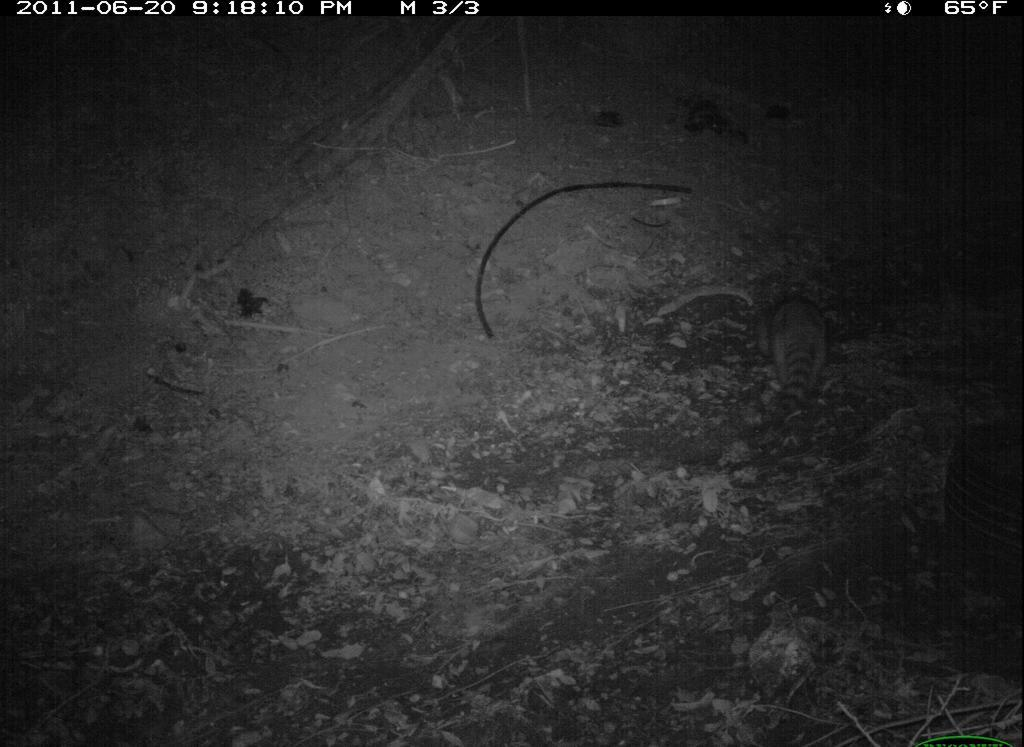raccoon: (757, 285, 840, 437)
